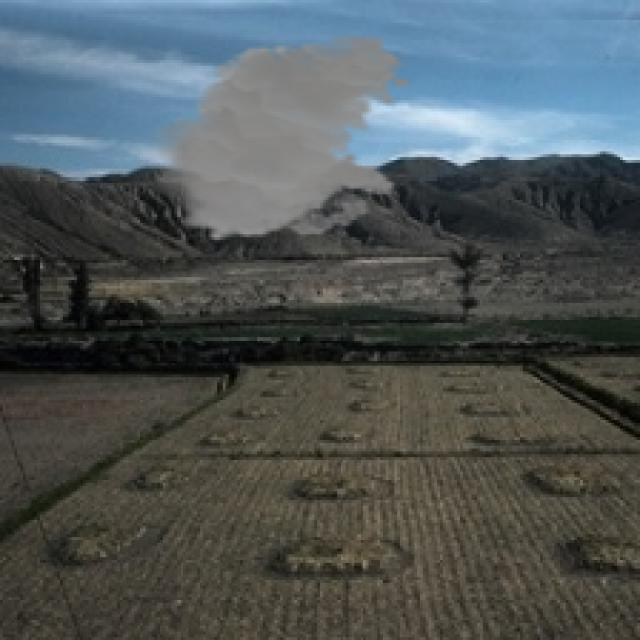smoke: (143, 34, 411, 243)
